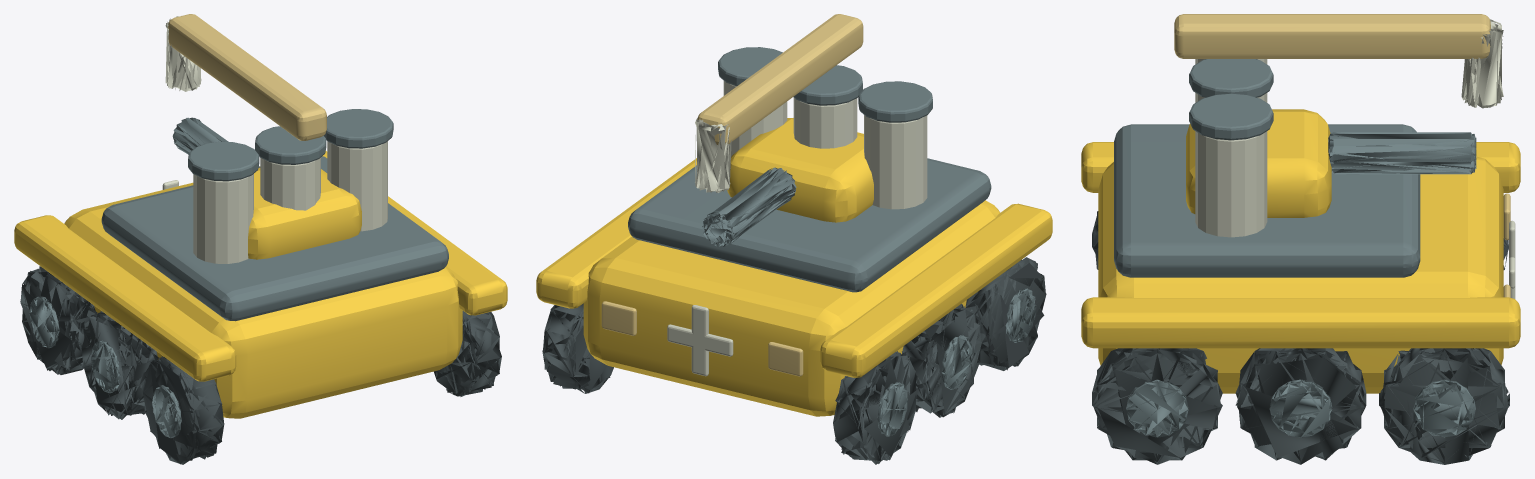
The model's file is vehicle_carrier.glb.
3 views of the same model, side by side, from view 1: azimuth 30°, elevation 25°; view 2: azimuth 150°, elevation 25°; view 3: azimuth 270°, elevation 25° (orthographic). The views are drawn at different scales.
Visible parts, largest first — view 1: Surface_Uniform, Surface_Gunmetal, Surface_WorldIvory, Surface_WorldBrass.001, Surface_Uniform.001, Wheel, Wheel.002, Wheel.001, Wheel.003, Surface_WorldIvory.001, Hub.001, Hub (+2 smaller); view 2: Surface_Uniform, Surface_Gunmetal, Surface_WorldIvory, Surface_Uniform.001, Surface_WorldBrass.001, Wheel.002, Wheel, Wheel.001, Wheel.005, Cannon, Surface_WorldIvory.001, Surface_WorldBrass (+3 smaller); view 3: Surface_Uniform, Surface_Gunmetal, Surface_WorldBrass.001, Wheel.005, Wheel.004, Wheel.003, Surface_WorldIvory, Surface_Uniform.001, Cannon, Hub.004, Hub.003, Hub.005 (+1 smaller).
Boxes of the visible parts, bbox=[...] form: Surface_Uniform: bbox=[14, 151, 507, 418]; Surface_Gunmetal: bbox=[101, 109, 448, 321]; Surface_WorldIvory: bbox=[162, 141, 387, 263]; Surface_WorldBrass.001: bbox=[168, 14, 326, 140]; Surface_Uniform.001: bbox=[248, 167, 361, 259]; Wheel: bbox=[142, 356, 224, 464]; Wheel.002: bbox=[20, 266, 97, 374]; Wheel.001: bbox=[81, 311, 158, 419]; Wheel.003: bbox=[434, 311, 501, 396]; Surface_WorldIvory.001: bbox=[165, 16, 201, 91]; Hub.001: bbox=[91, 340, 120, 393]; Hub: bbox=[152, 385, 181, 437]; Surface_Uniform: bbox=[536, 158, 1052, 416]; Surface_Gunmetal: bbox=[628, 47, 991, 292]; Surface_WorldIvory: bbox=[667, 81, 927, 376]; Surface_Uniform.001: bbox=[727, 118, 873, 222]; Surface_WorldBrass.001: bbox=[697, 14, 863, 144]; Wheel.002: bbox=[833, 351, 918, 464]; Wheel: bbox=[965, 257, 1046, 370]; Wheel.001: bbox=[902, 304, 982, 417]; Wheel.005: bbox=[542, 303, 613, 393]; Cannon: bbox=[702, 167, 796, 246]; Surface_WorldIvory.001: bbox=[695, 118, 731, 192]; Surface_WorldBrass: bbox=[601, 301, 803, 376]; Surface_Uniform: bbox=[1081, 142, 1520, 393]; Surface_Gunmetal: bbox=[1114, 59, 1420, 277]; Surface_WorldBrass.001: bbox=[1174, 14, 1490, 58]; Wheel.005: bbox=[1379, 348, 1509, 464]; Wheel.004: bbox=[1235, 348, 1366, 464]; Wheel.003: bbox=[1092, 348, 1222, 464]; Surface_WorldIvory: bbox=[1195, 59, 1515, 298]; Surface_Uniform.001: bbox=[1186, 109, 1331, 217]; Cannon: bbox=[1328, 132, 1476, 174]; Hub.004: bbox=[1269, 379, 1332, 437]; Hub.003: bbox=[1126, 379, 1188, 437]; Hub.005: bbox=[1413, 379, 1475, 437].
Size of the model in its own units: 2.02 by 1.88 by 2.08.
